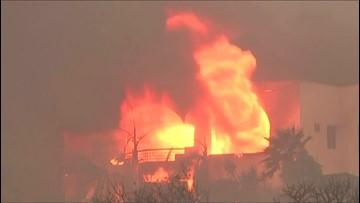fire: (208, 55, 261, 149), (125, 105, 184, 154)
